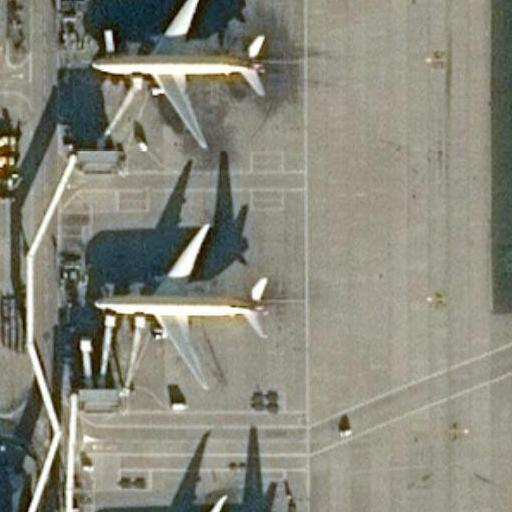Aircraft: (83, 215, 269, 388), (86, 219, 274, 390), (87, 0, 270, 148), (84, 0, 265, 144), (93, 486, 297, 512), (92, 491, 297, 512)
